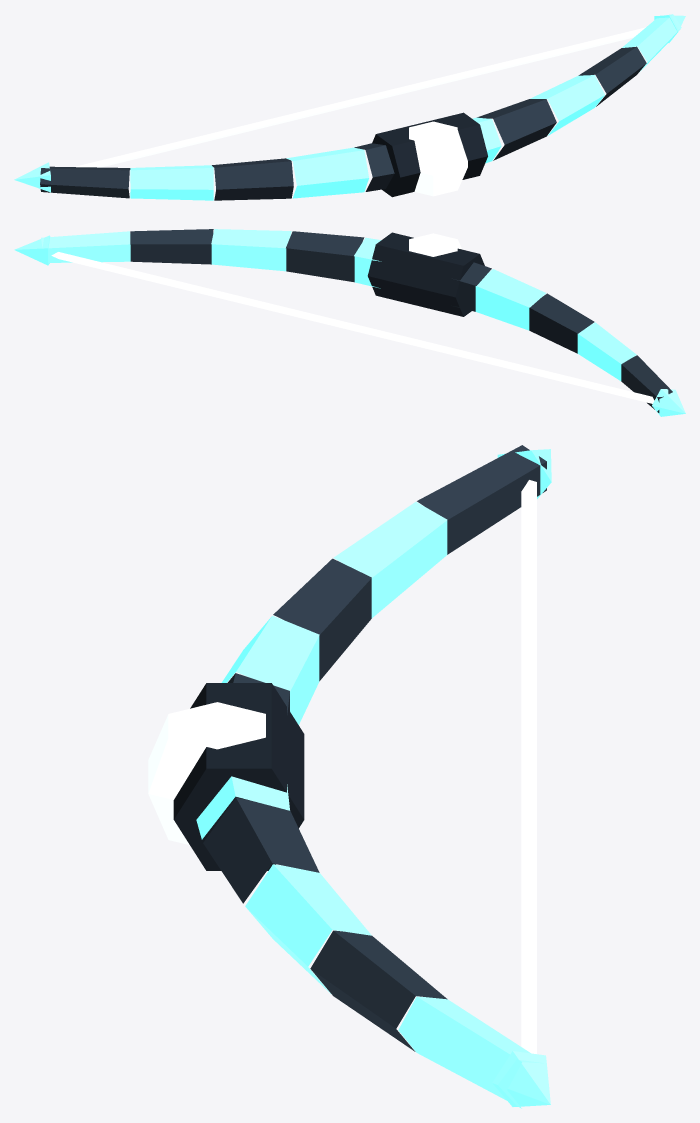
Rendered from w_item_bowGlow.glb.
3 views of the same model, one above another, from view 1: azimuth 30°, elevation 25°; view 2: azimuth 150°, elevation 25°; view 3: azimuth 270°, elevation 25° (orthographic). The views are drawn at different scales.
Parts seen in each view (by area): view 1: w_bowGlow; view 2: w_bowGlow; view 3: w_bowGlow.
Boxes of the visible parts, <box> form: w_bowGlow: <box>14,14,685,200</box>; w_bowGlow: <box>14,229,685,416</box>; w_bowGlow: <box>148,445,551,1108</box>.
Size of the model in its own units: 2.14 by 0.22 by 0.5564.
1 material, 1 textured.
